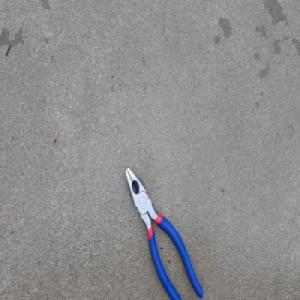Pliers: (122, 165, 201, 300)
